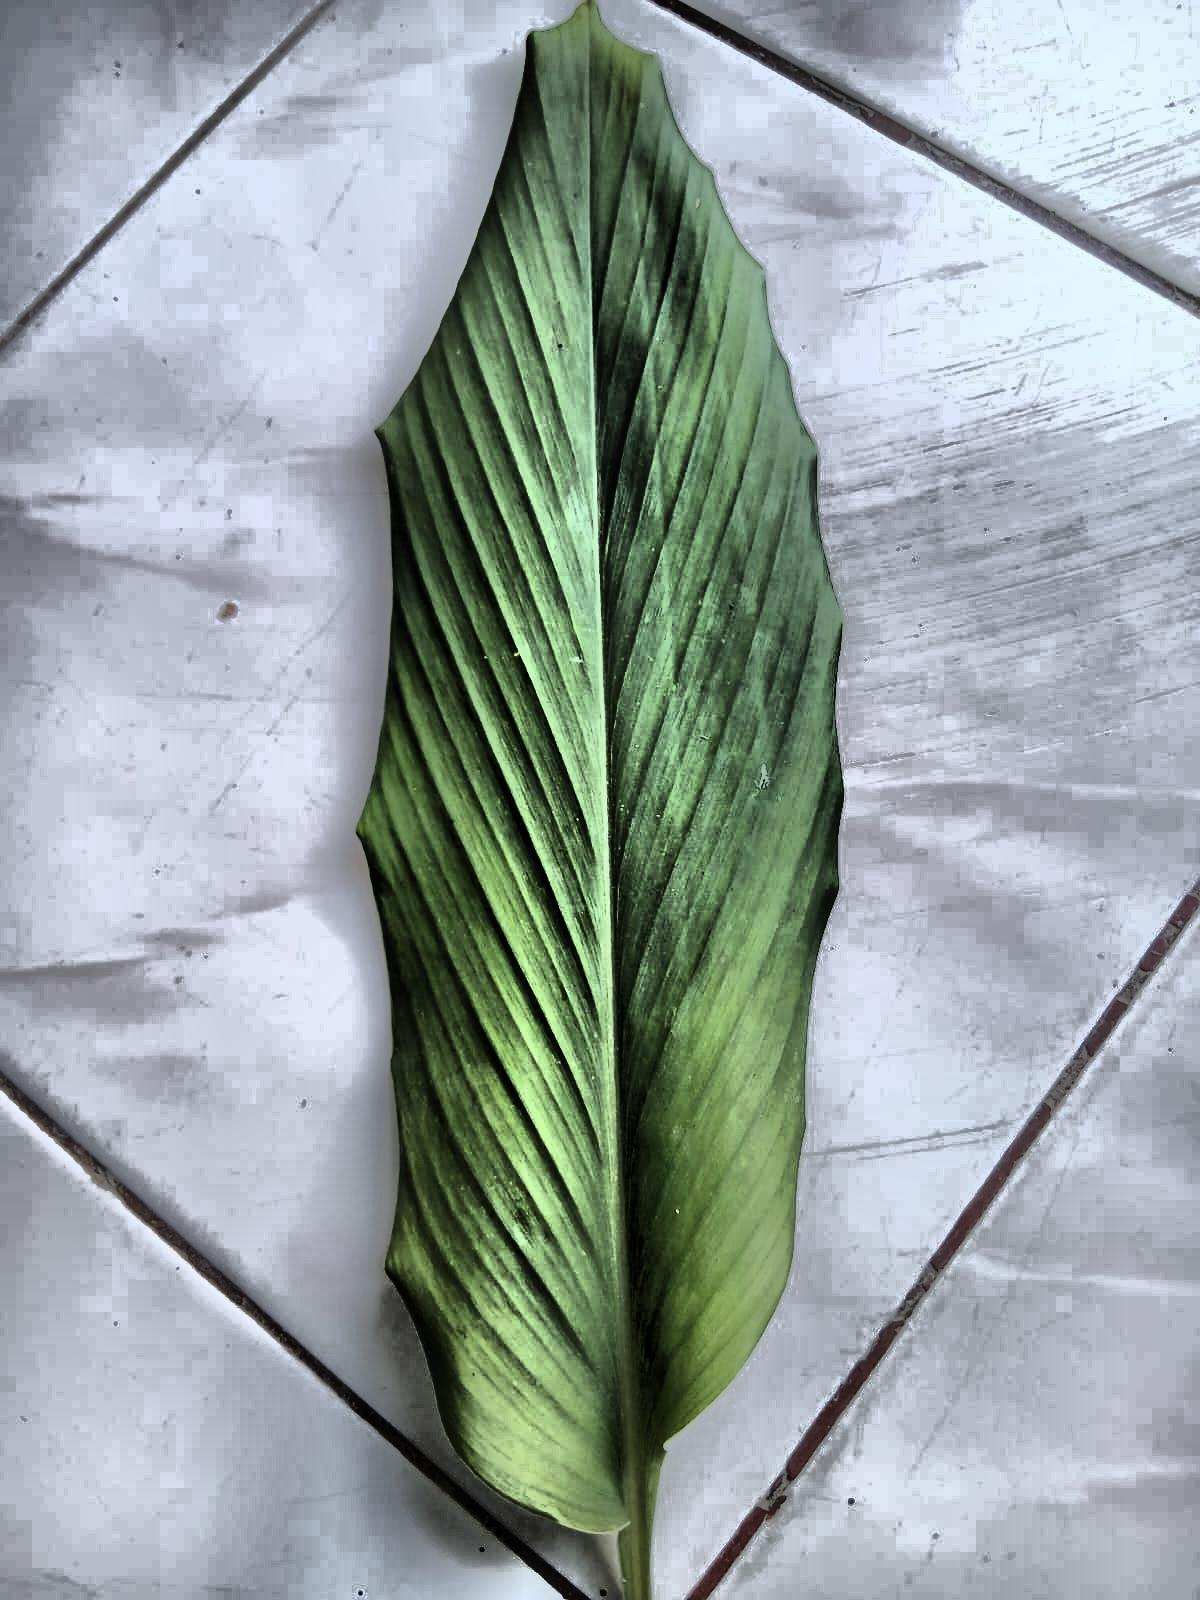daun kunyit: (359, 0, 842, 1599)
